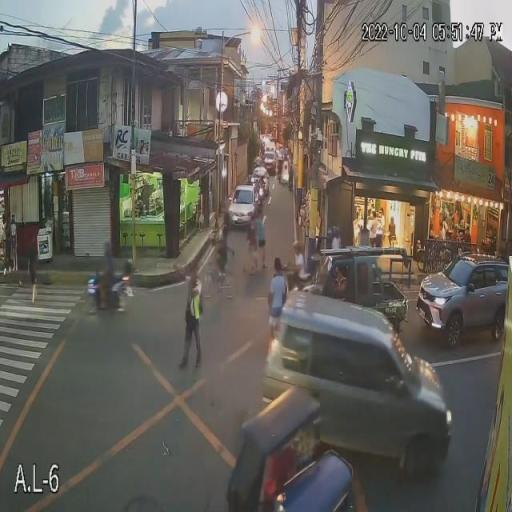helmet: (292, 240, 303, 254), (103, 242, 112, 257)
motorcycle: (85, 273, 134, 313)
rider: (100, 260, 113, 310), (289, 255, 303, 291)
